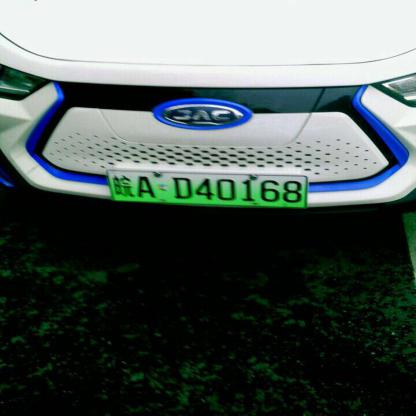lp: (108, 168, 308, 206)
